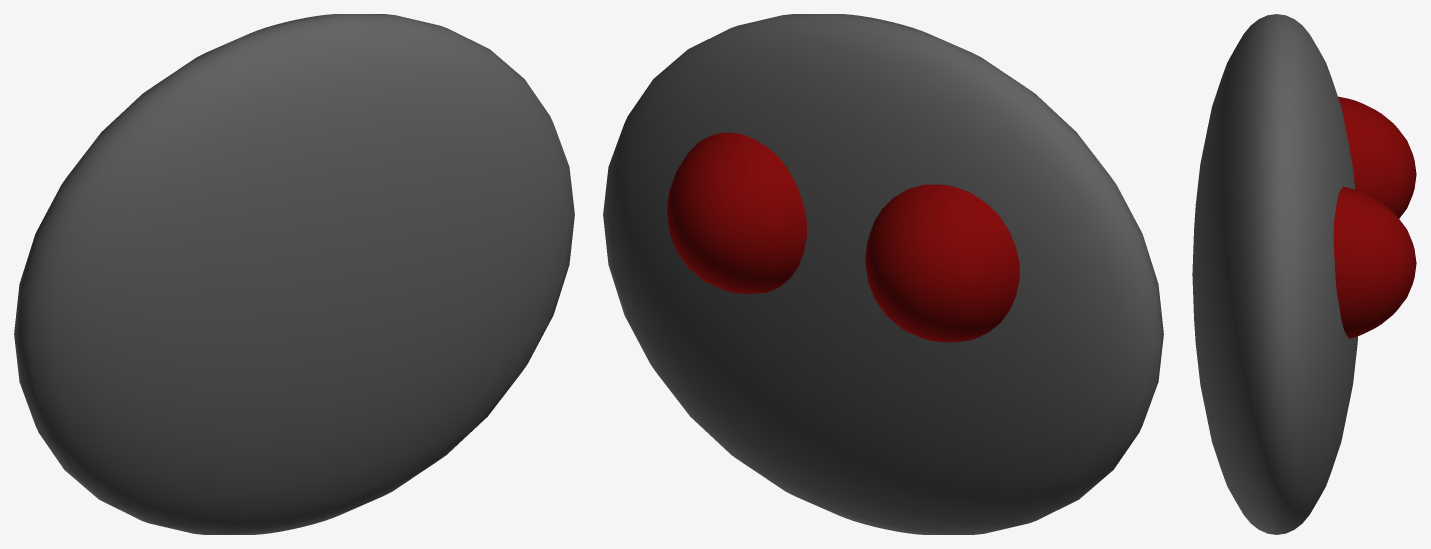
File: Stare Enemy.glb
3 renders of one model, left to right at view 1: azimuth 30°, elevation 25°; view 2: azimuth 150°, elevation 25°; view 3: azimuth 270°, elevation 25°, orthographic. The views are drawn at different scales.
Visible parts, largest first — view 1: Sphere; view 2: Sphere, Sphere.002, Sphere.001; view 3: Sphere, Sphere.001, Sphere.002.
Boxes of the visible parts, x1,y1,x2,y2 form: Sphere: [14, 14, 574, 534]; Sphere: [603, 14, 1163, 534]; Sphere.002: [865, 184, 1019, 342]; Sphere.001: [667, 132, 806, 293]; Sphere: [1192, 14, 1357, 534]; Sphere.001: [1333, 187, 1416, 338]; Sphere.002: [1338, 96, 1416, 218].
Bounding box in the file's own units: 5.89 × 5.09 × 2.25.
